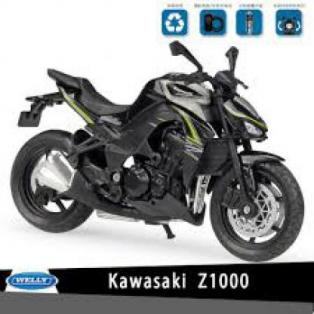Motocicleta: (9, 46, 310, 258)
